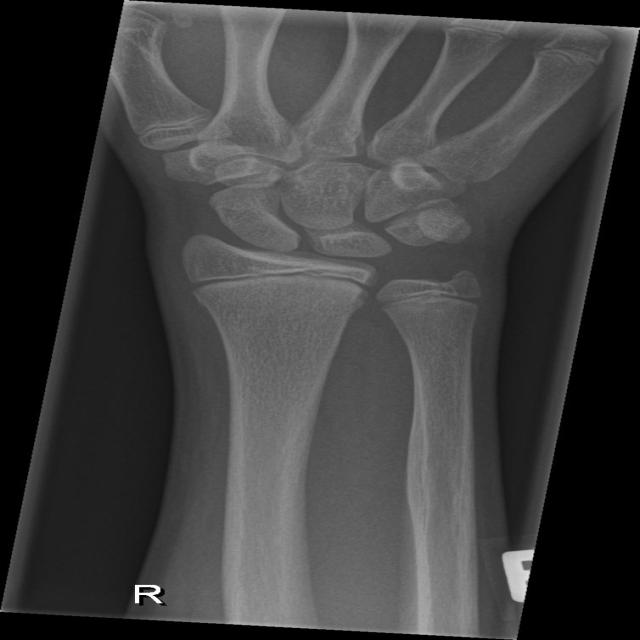fracture: (169, 258, 385, 304), (366, 283, 500, 318)
